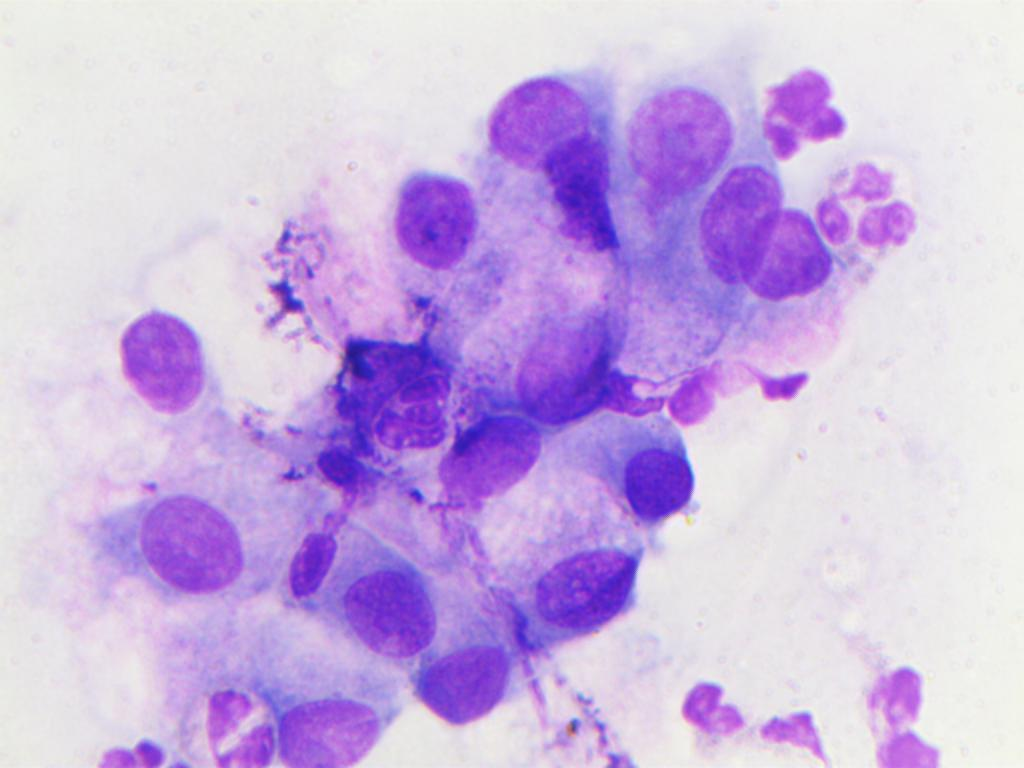artifact: (670, 664, 834, 768), (858, 654, 961, 768)
epithelial: (86, 294, 265, 465), (476, 64, 620, 271), (374, 165, 515, 333), (67, 487, 251, 606), (627, 68, 725, 278), (515, 538, 654, 648), (271, 668, 410, 767), (340, 544, 440, 662), (432, 415, 547, 510), (605, 430, 710, 526), (417, 640, 514, 741)
neutrophil: (755, 58, 853, 170), (815, 153, 929, 249), (173, 674, 278, 768)
